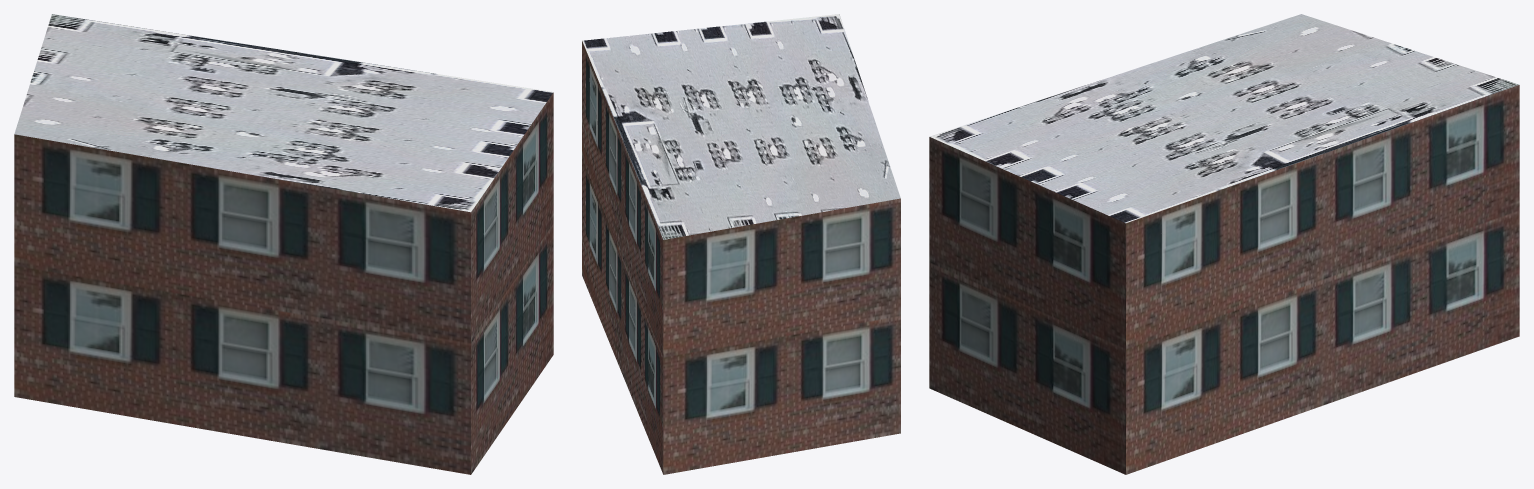
File: ResTex__3498.fbx
3 views of the same model, side by side, from view 1: azimuth 30°, elevation 25°; view 2: azimuth 150°, elevation 25°; view 3: azimuth 270°, elevation 25° (orthographic). The views are drawn at different scales.
Visible parts, largest first — view 1: CityEngineMaterial_14_m, CityEngineMaterial_4_m; view 2: CityEngineMaterial_14_m, CityEngineMaterial_4_m; view 3: CityEngineMaterial_14_m, CityEngineMaterial_4_m.
Boxes of the visible parts, <box> form: CityEngineMaterial_14_m: <box>14,92,553,474</box>; CityEngineMaterial_4_m: <box>14,14,553,212</box>; CityEngineMaterial_14_m: <box>582,41,900,474</box>; CityEngineMaterial_4_m: <box>582,14,900,239</box>; CityEngineMaterial_14_m: <box>929,85,1519,474</box>; CityEngineMaterial_4_m: <box>929,14,1519,223</box>.
Size of the model in its own units: 10.7 by 6 by 12.75.
2 materials, 2 textured.
